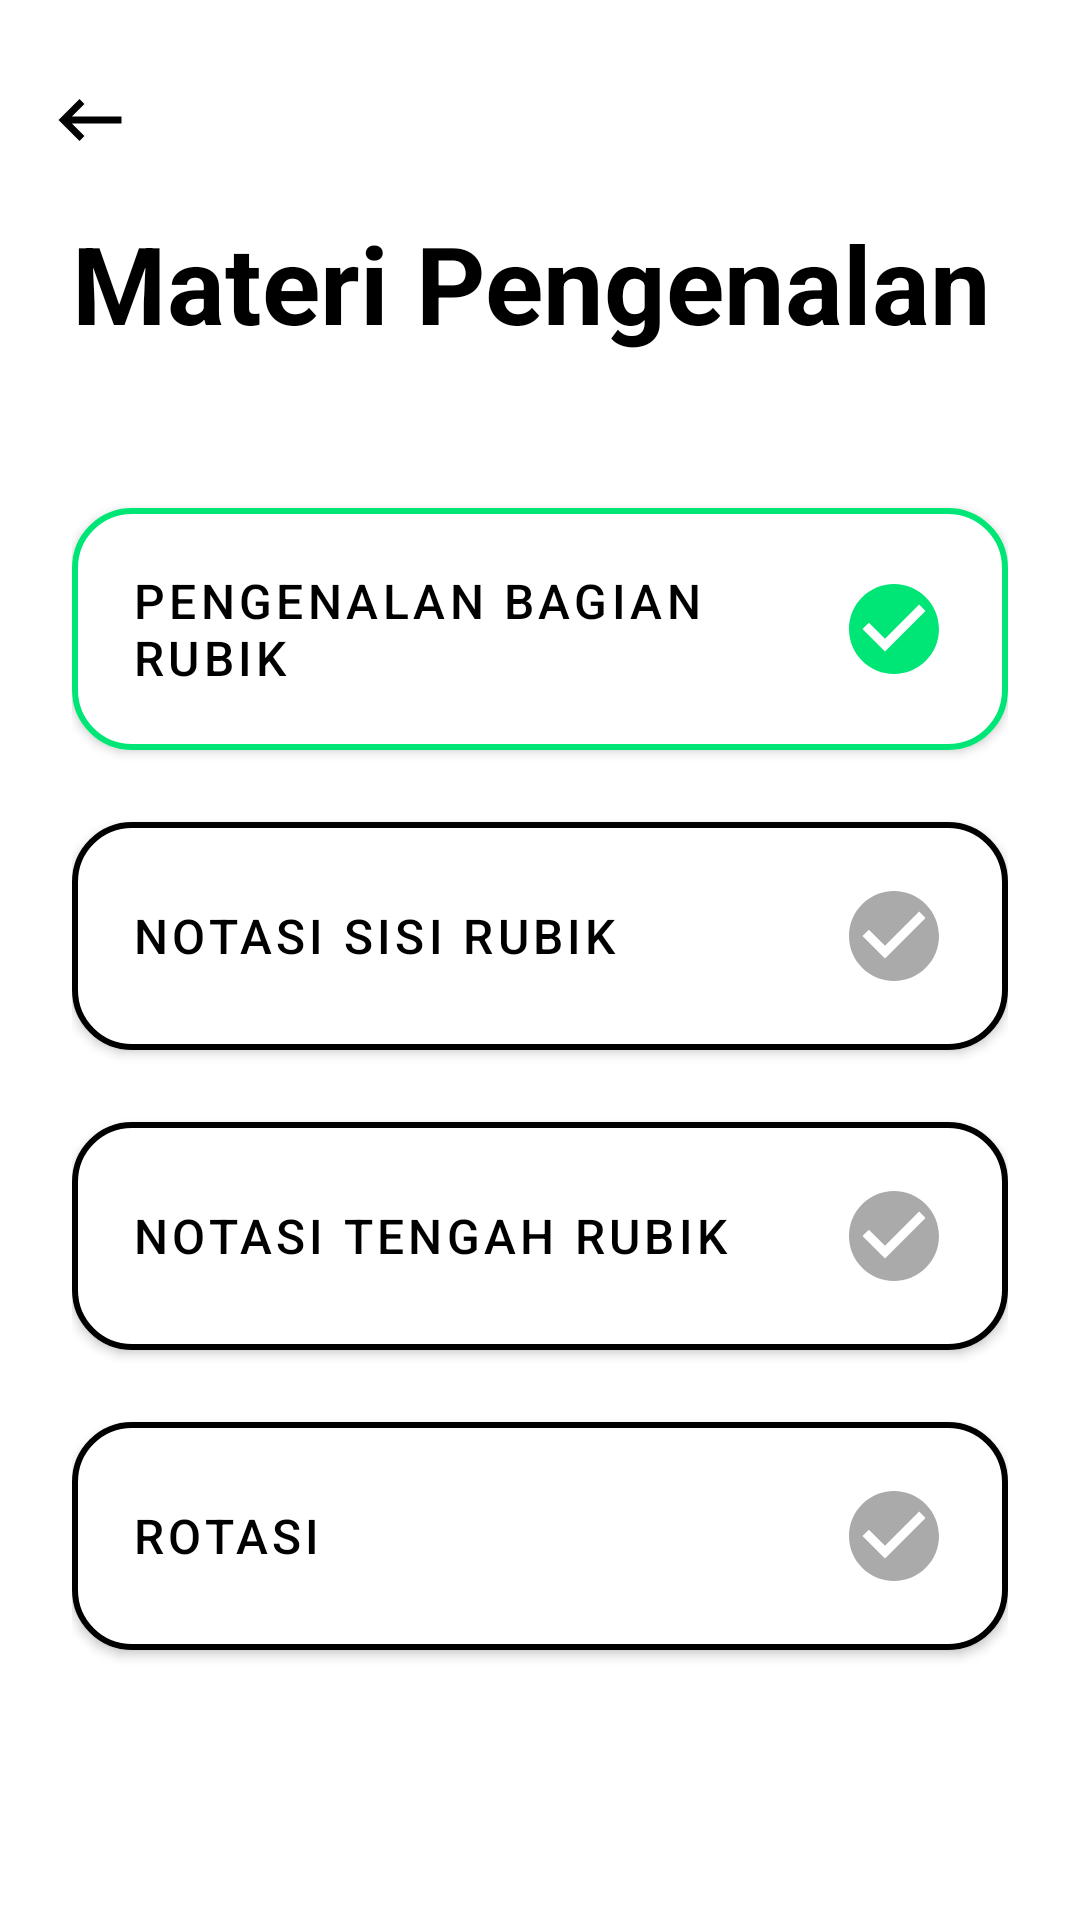

Icons on this 1080w x 1920h Android screen, each with the point to tap as (x,y):
Back button: (90,120)
